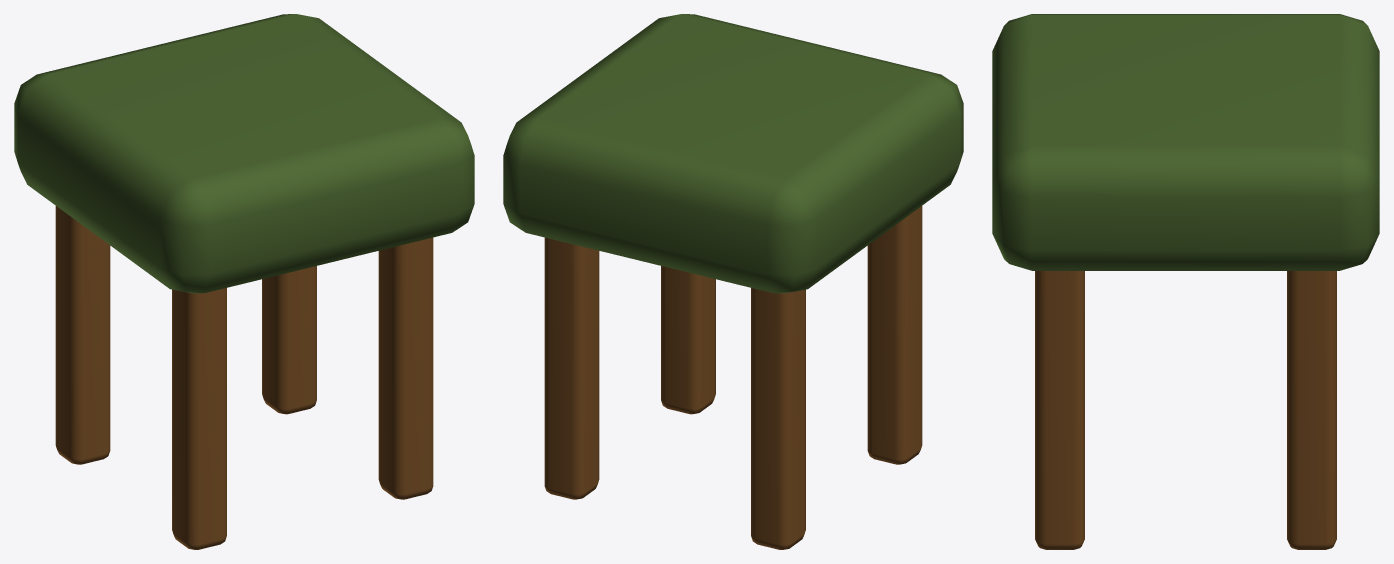
File: stool_06_green.fbx
3 renders of one model, left to right at view 1: azimuth 30°, elevation 25°; view 2: azimuth 150°, elevation 25°; view 3: azimuth 270°, elevation 25°, orthographic. The views are drawn at different scales.
Visible parts, largest first — view 1: stool_06_green; view 2: stool_06_green; view 3: stool_06_green.
Boxes of the visible parts, left/top/right/bottom form: stool_06_green: left=14, top=14, right=474, bottom=549; stool_06_green: left=503, top=14, right=963, bottom=549; stool_06_green: left=992, top=14, right=1379, bottom=549.
Size of the model in its own units: 41.07 by 47.84 by 41.07.
1 material, 1 textured.
